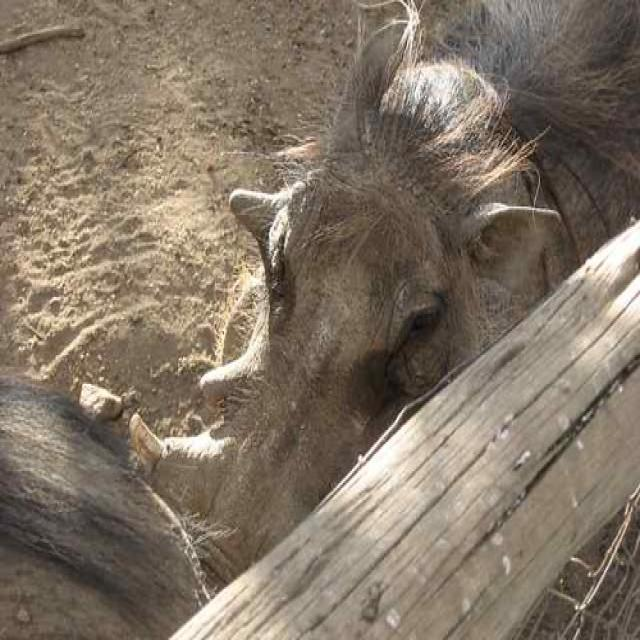boar: (137, 0, 640, 588)
